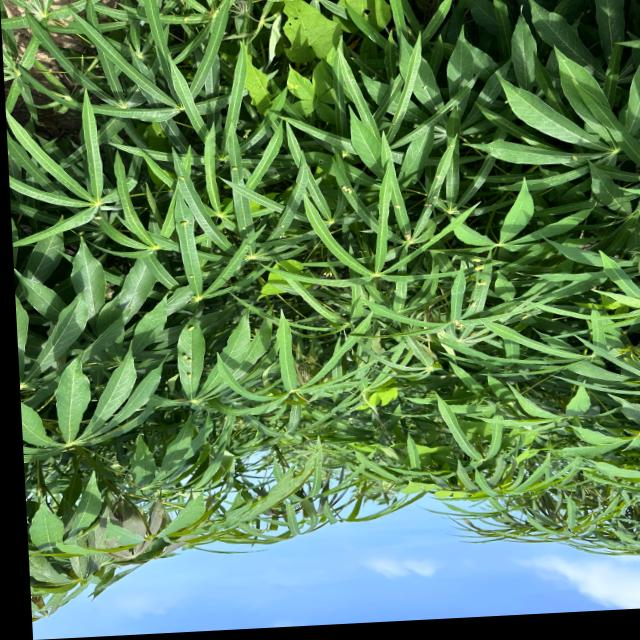Maleza: (277, 1, 347, 123)
Mosca: (175, 349, 202, 382), (175, 208, 194, 229), (469, 253, 487, 273), (181, 319, 203, 335), (172, 168, 192, 185), (423, 191, 440, 211), (389, 198, 408, 215), (474, 274, 490, 291), (228, 161, 243, 179), (467, 294, 481, 310), (179, 273, 194, 287), (339, 177, 351, 194)
